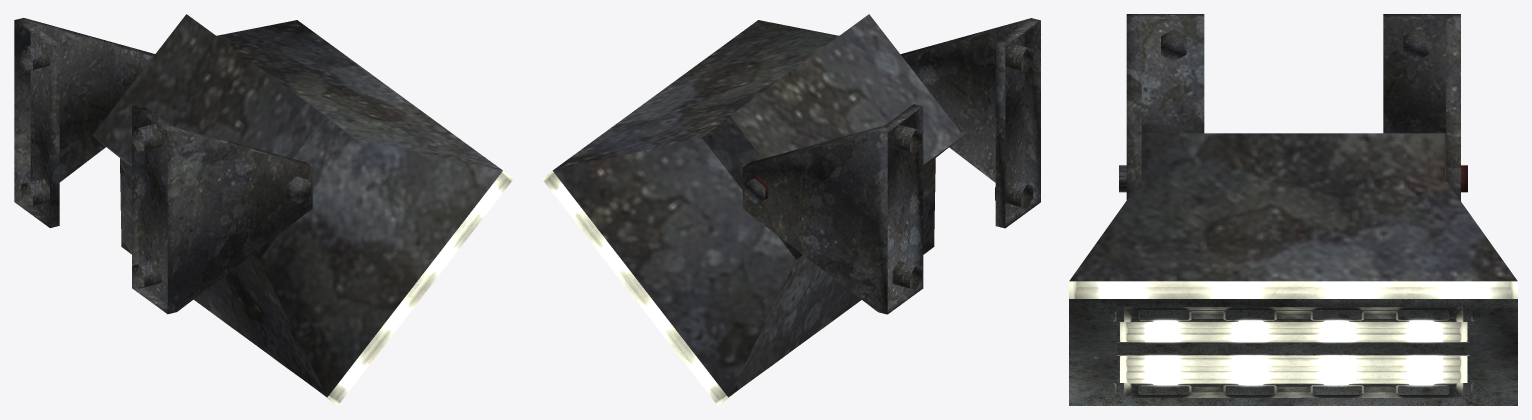
Rendered from SM_lamp.fbx.
3 views of the same model, side by side, from view 1: azimuth 30°, elevation 25°; view 2: azimuth 150°, elevation 25°; view 3: azimuth 270°, elevation 25° (orthographic). The views are drawn at different scales.
Visible parts, largest first — view 1: SM_lamp_LOD0; view 2: SM_lamp_LOD0; view 3: SM_lamp_LOD0.
Part boxes in pixels (x1,y1,x2,y2): SM_lamp_LOD0: (14, 14, 513, 405); SM_lamp_LOD0: (542, 14, 1040, 405); SM_lamp_LOD0: (1069, 14, 1517, 405).
Bounding box in the file's own units: 24.68 × 20.85 × 26.88.
Materials: 2 (2 with a texture image).
